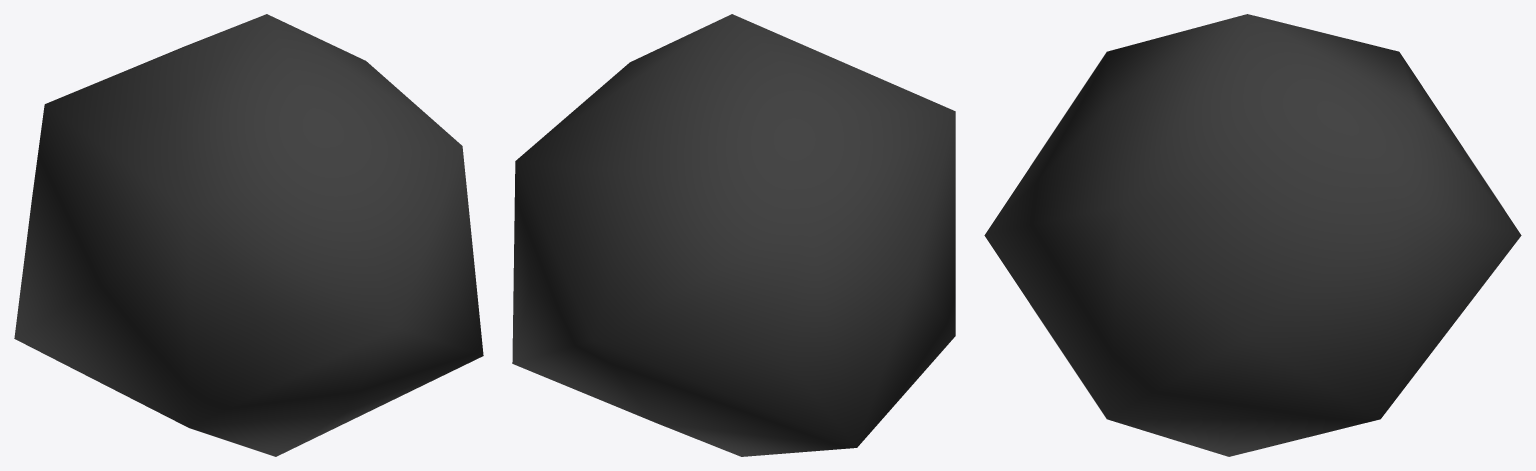
The model's file is p_001_fangkuaiyan1.glb.
3 renders of one model, left to right at view 1: azimuth 30°, elevation 25°; view 2: azimuth 150°, elevation 25°; view 3: azimuth 270°, elevation 25°, orthographic. The views are drawn at different scales.
Parts seen in each view (by area): view 1: model; view 2: model; view 3: model.
Boxes of the visible parts, left/top/right/bottom form: model: left=14, top=14, right=483, bottom=456; model: left=512, top=14, right=955, bottom=456; model: left=984, top=14, right=1521, bottom=456.
Size of the model in its own units: 8.07 by 9.12 by 10.03.
Materials: 1 (1 with a texture image).
